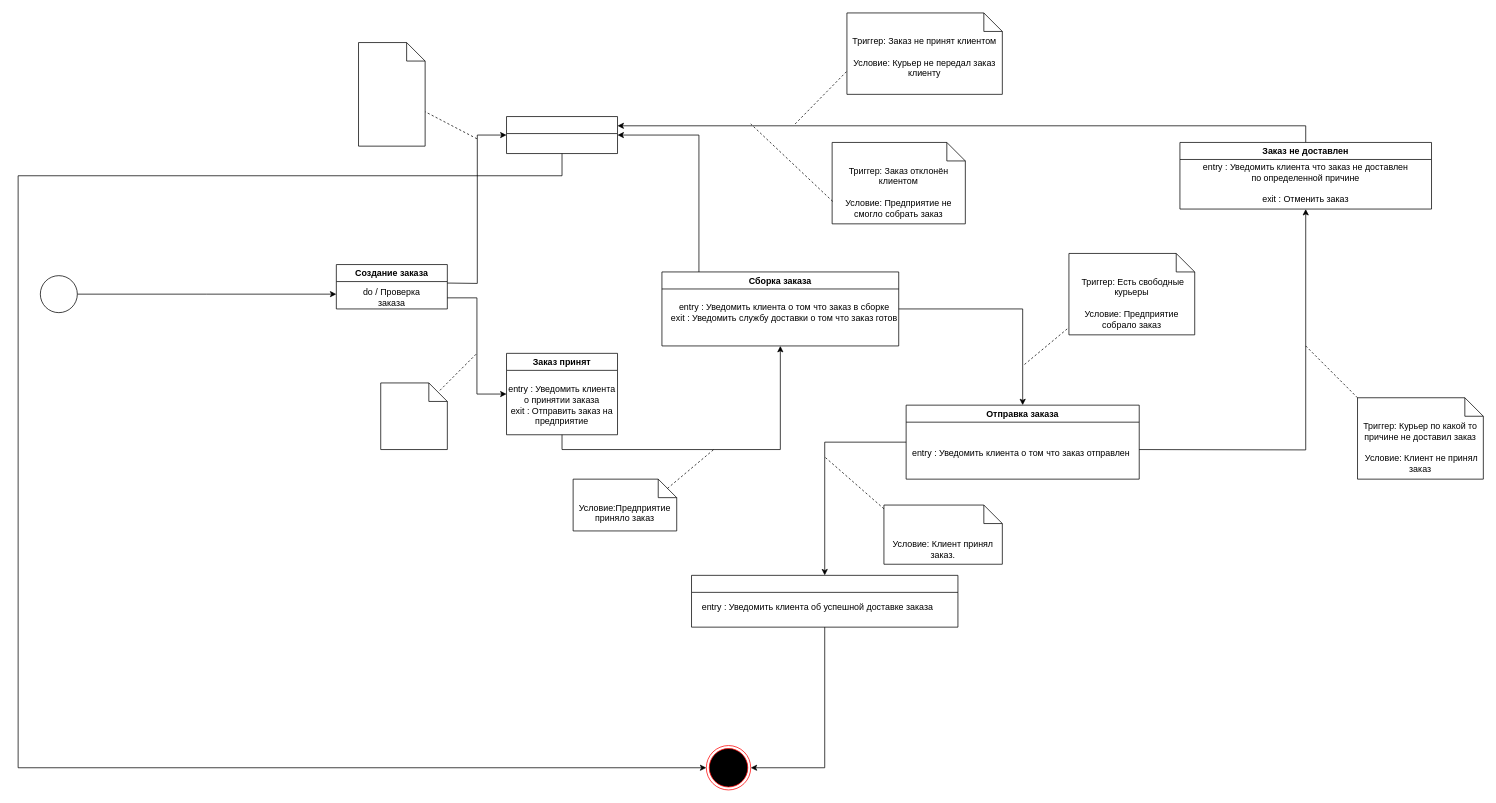
Image size: 1496x803. Some labels were removed from this diagram. The centre of each missing label's shape, as x and y in pixels:
"Заказ доставлен" goes at point 824,601.
"Заказ отменён" goes at point 562,135.
"Триггер: Заказ отклонён клиентом Условие: Товаров нет в наличии" goes at point 391,94.
"Условие: Все товары в наличии" goes at point 413,416.
